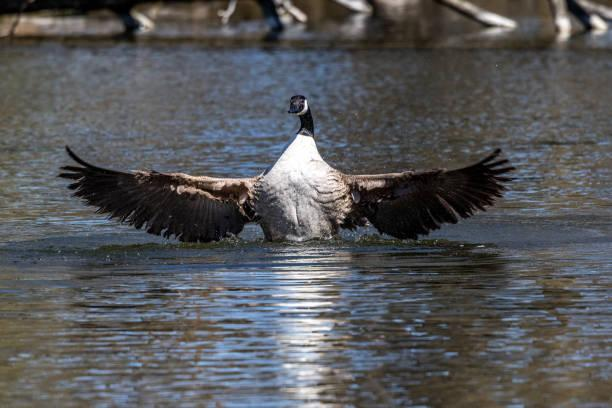Canadian-Goose: (58, 93, 515, 246)
